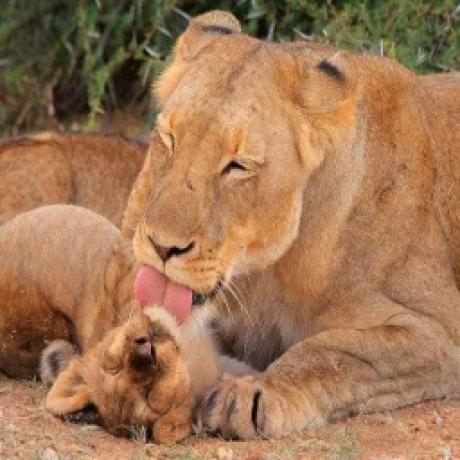Lion: (130, 7, 460, 445), (0, 201, 204, 447)
